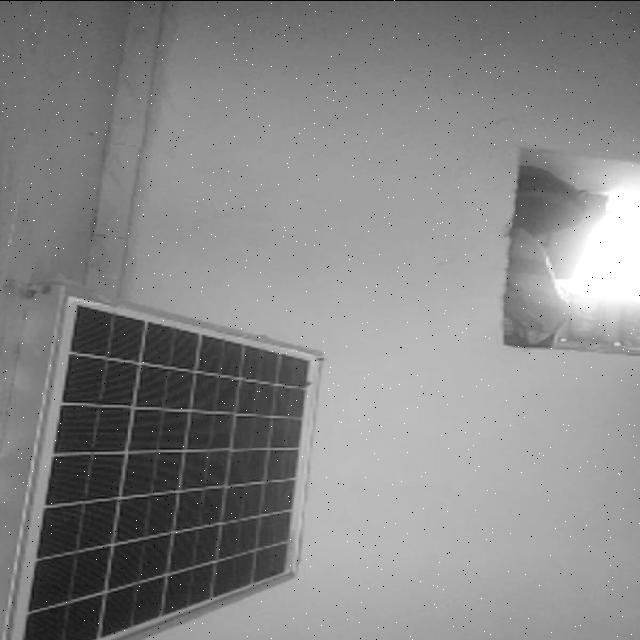Normal Solar Panel: (22, 304, 308, 640)
